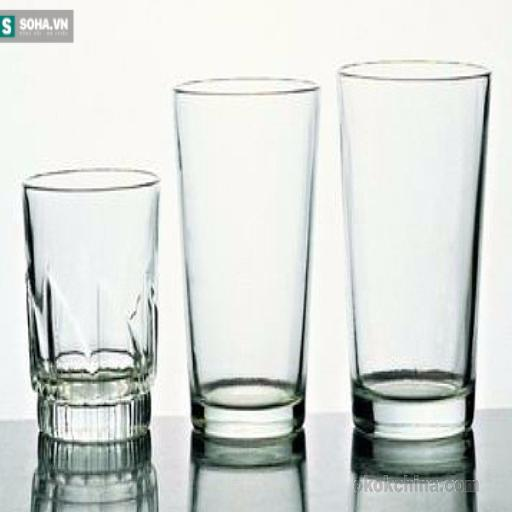cup: (339, 62, 489, 437), (175, 79, 319, 437), (24, 169, 158, 441)
